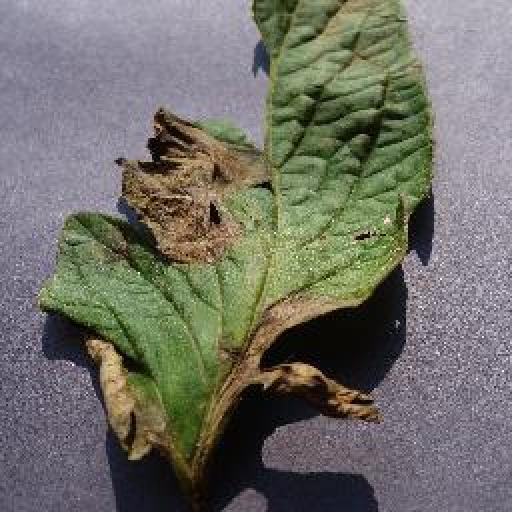disease_tomato: (38, 0, 438, 467)
